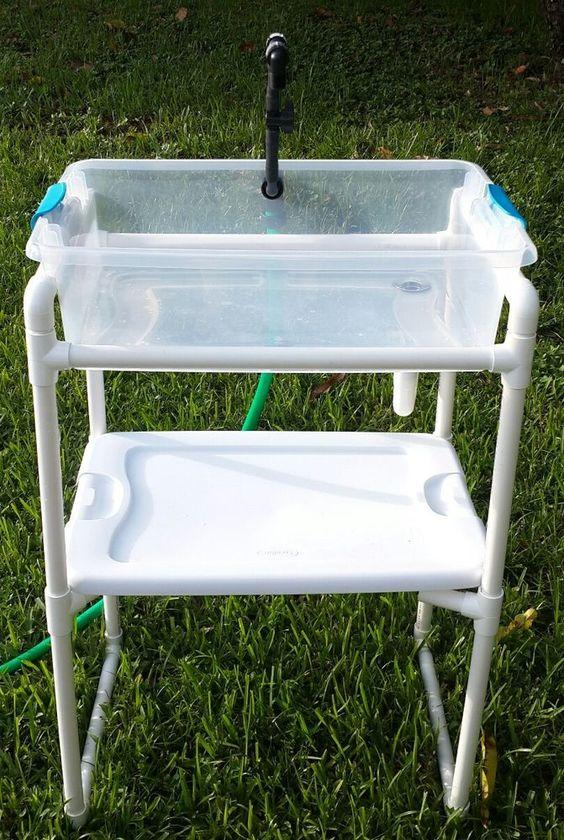PVC: (468, 282, 522, 799), (23, 328, 533, 382), (26, 278, 73, 832), (44, 562, 500, 602), (83, 423, 460, 457)
